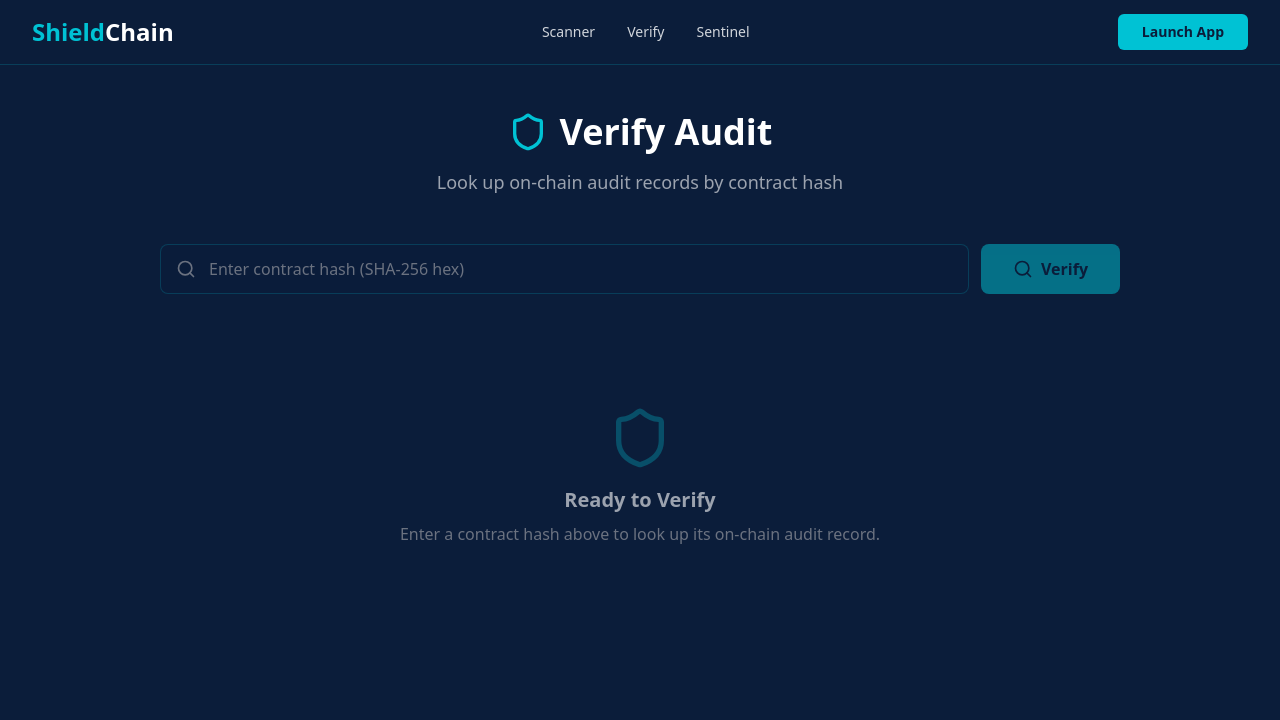
it: Frontend Unit Tests › test_verify_not_found_state › should display Scan a Contract button in not found state
The width and height of the screenshot is (1280, 720).
Type "test_hash" into the field with placeholder "Enter contract hash (SHA-256 hex)". click: coordinates (564, 269)
box: x1=160 y1=244 x2=969 y2=294
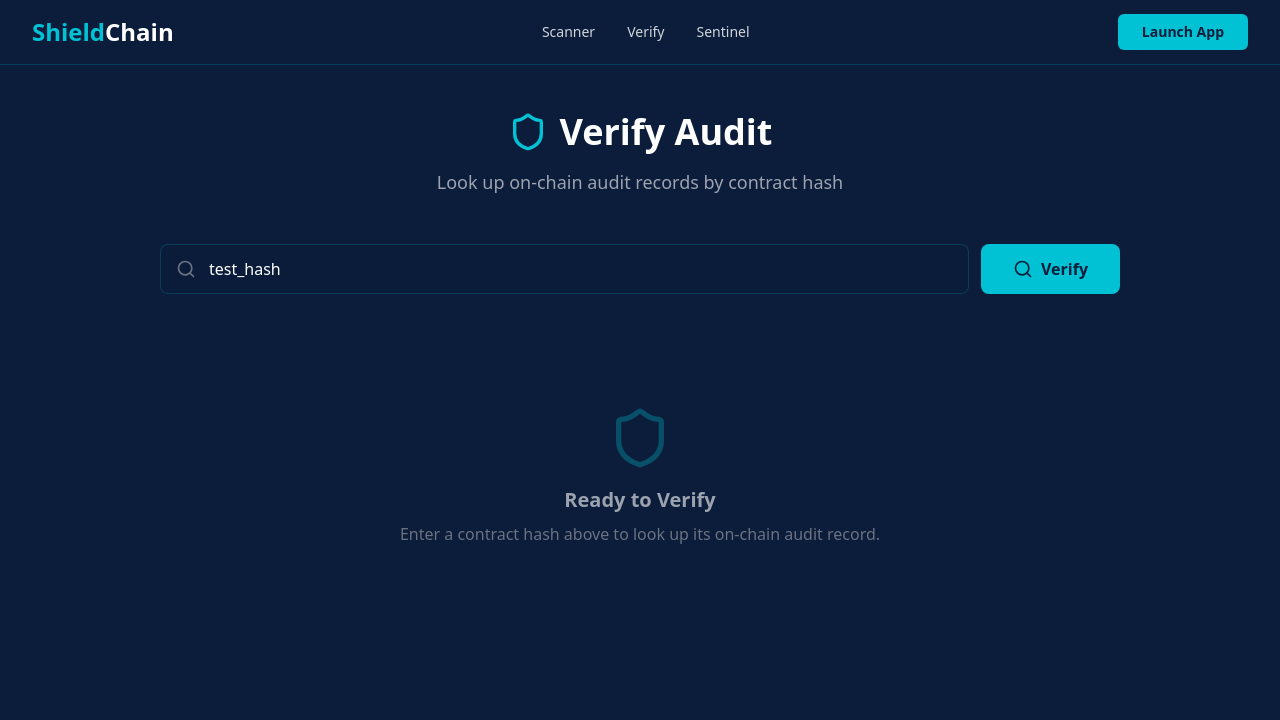
Click the button "Verify". click: coordinates (1050, 269)
box: x1=981 y1=244 x2=1120 y2=294
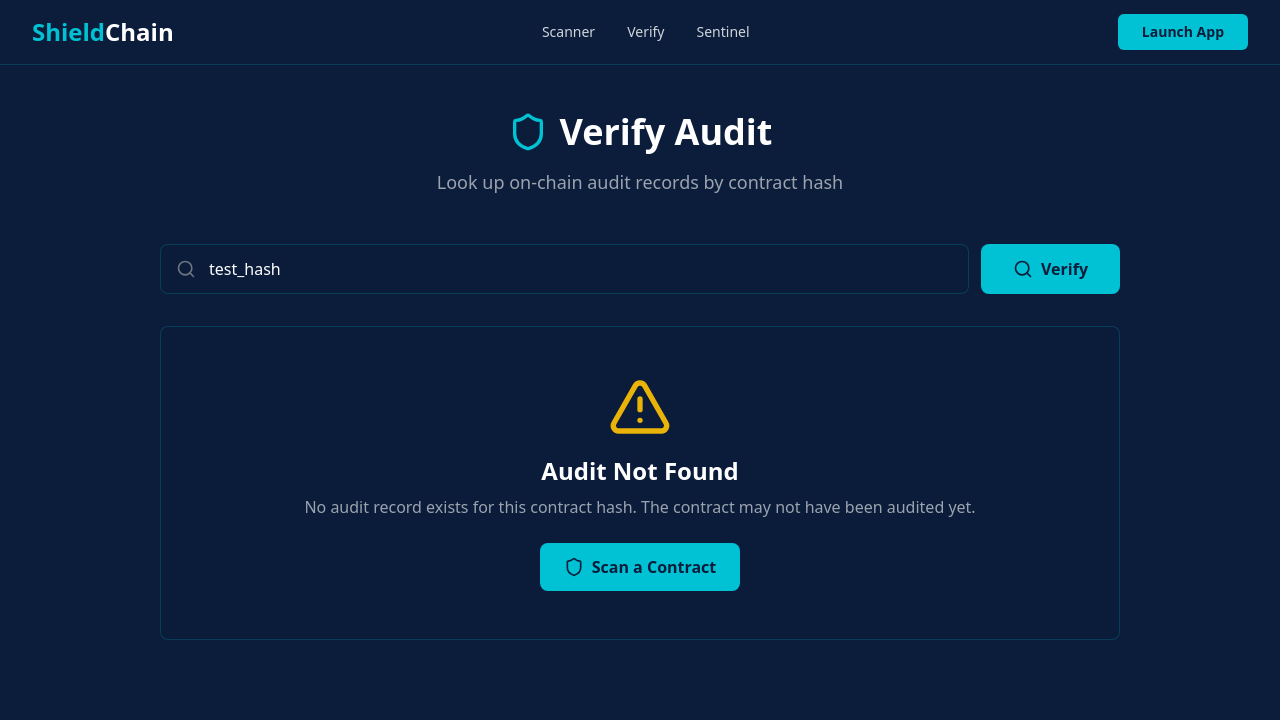
Expected: the button "Scan a Contract" is shown, x1=540 y1=543 x2=740 y2=591
